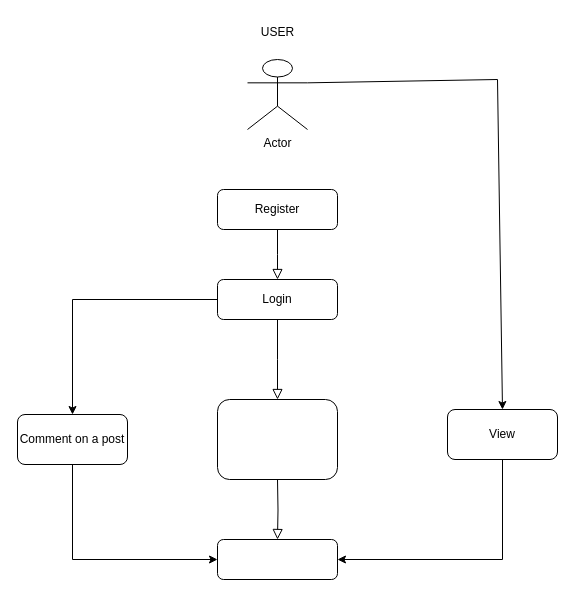
Some shapes in this 575 by 597 pixel diagram are drawn without their labels. The shapes that lost their labels are listed below. From the top down, each one's box as (x1, y1, x2, y2) in pixels, then its label:
(216, 398, 338, 480): Write post
(216, 538, 338, 580): Publish post
